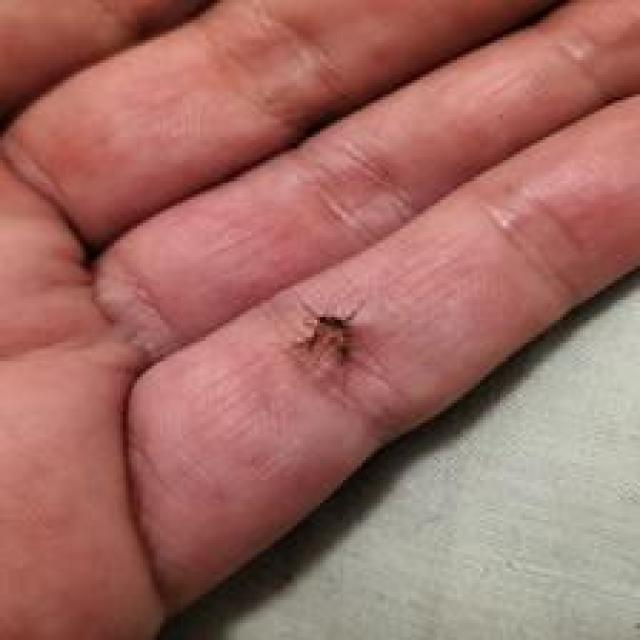Culex: (294, 299, 360, 367)
